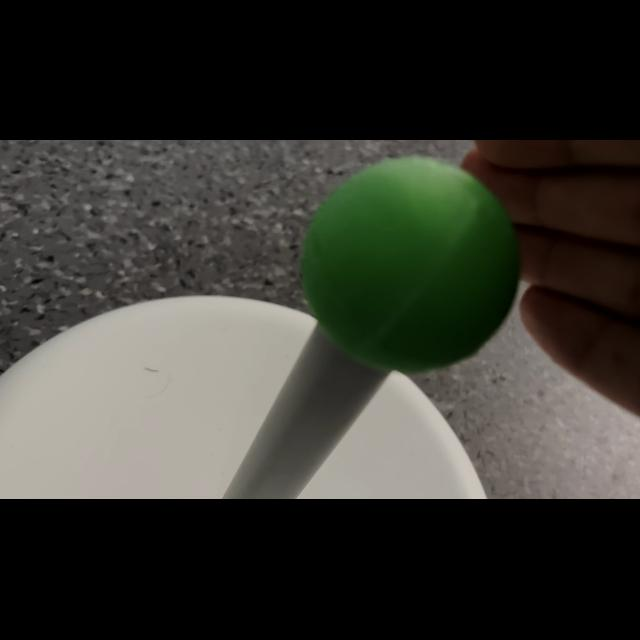objects: (292, 153, 524, 374)
